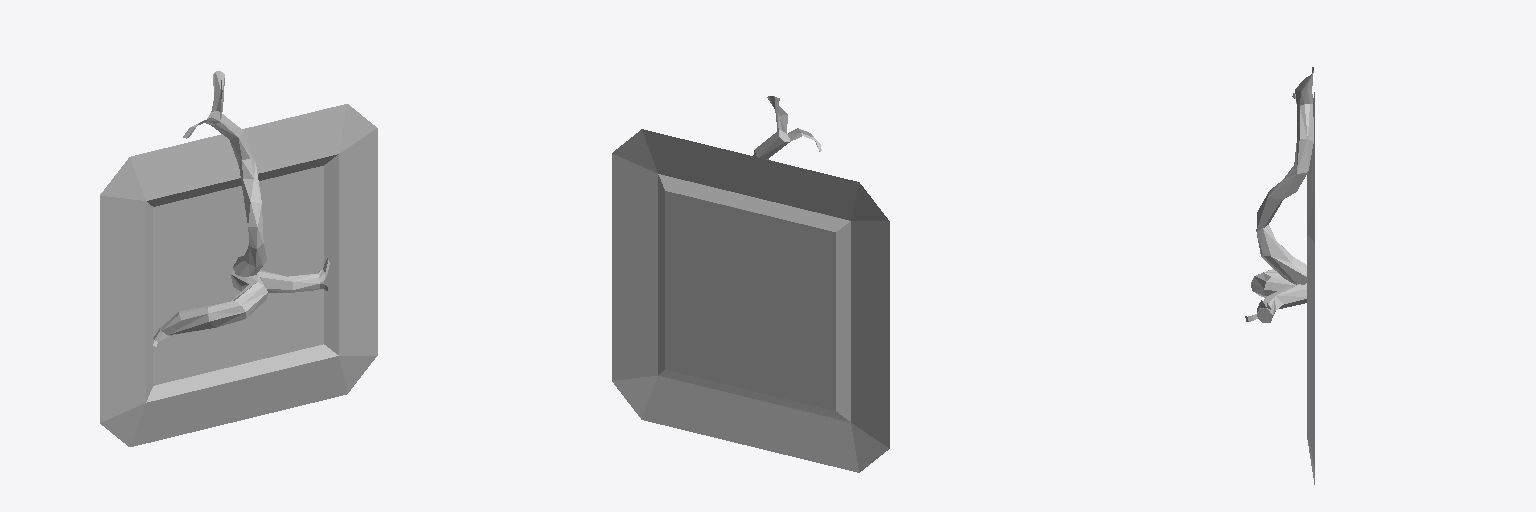
Rendered from upgradeSlotBroken.obj.
3 renders of one model, left to right at view 1: azimuth 30°, elevation 25°; view 2: azimuth 150°, elevation 25°; view 3: azimuth 270°, elevation 25°, orthographic.
Visible parts, largest first — view 1: Object.1; view 2: Object.1; view 3: Object.1.
Part boxes in pixels (left/top/right/bottom): Object.1: left=100, top=71, right=377, bottom=446; Object.1: left=612, top=96, right=889, bottom=472; Object.1: left=1245, top=67, right=1314, bottom=484.
Size of the model in its own units: 41.67 by 50.94 by 9.04.